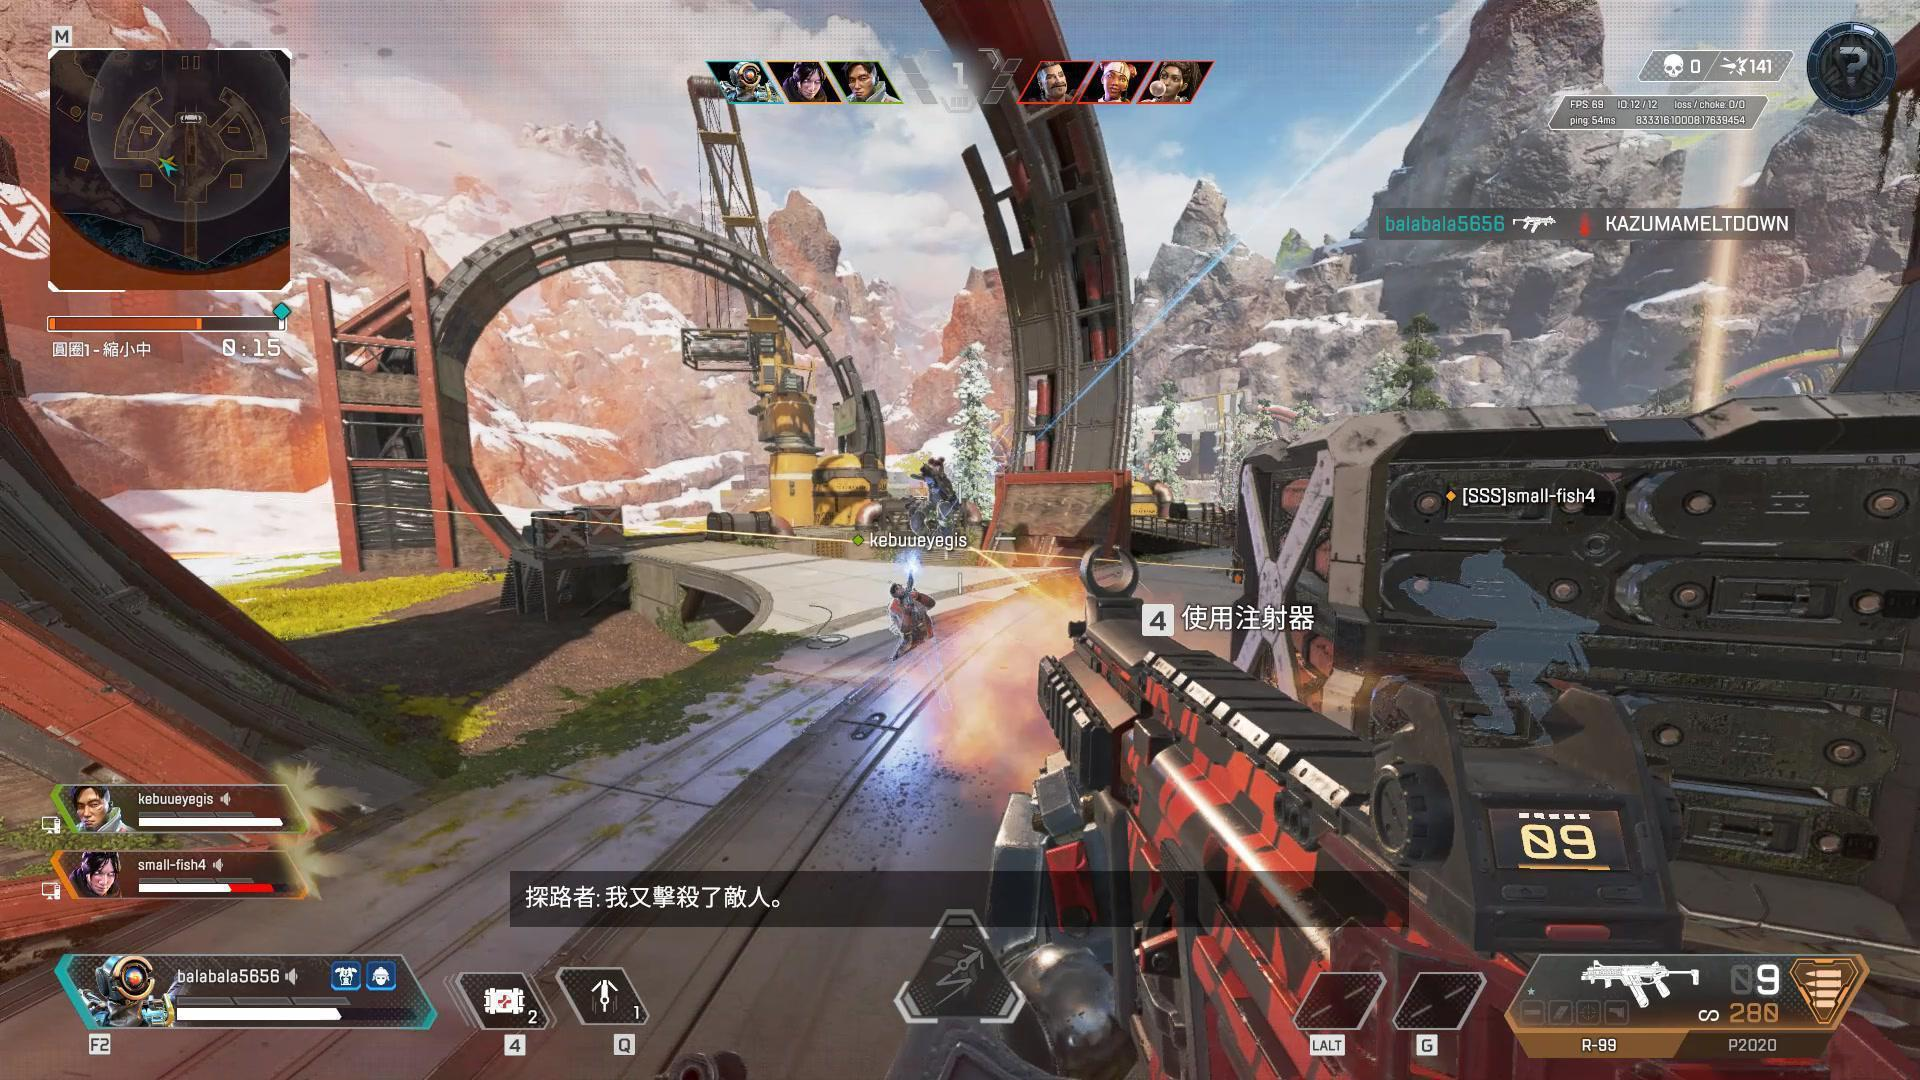avatar: (909, 456, 962, 535), (888, 580, 937, 658)
